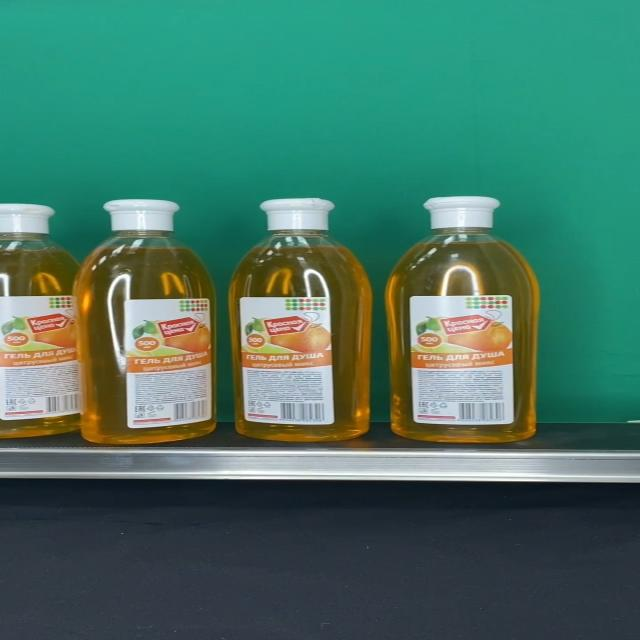Bottle: (386, 196, 540, 443), (228, 199, 374, 441), (73, 199, 215, 443)
Cap: (422, 196, 501, 229), (260, 198, 336, 231), (103, 200, 180, 230)
